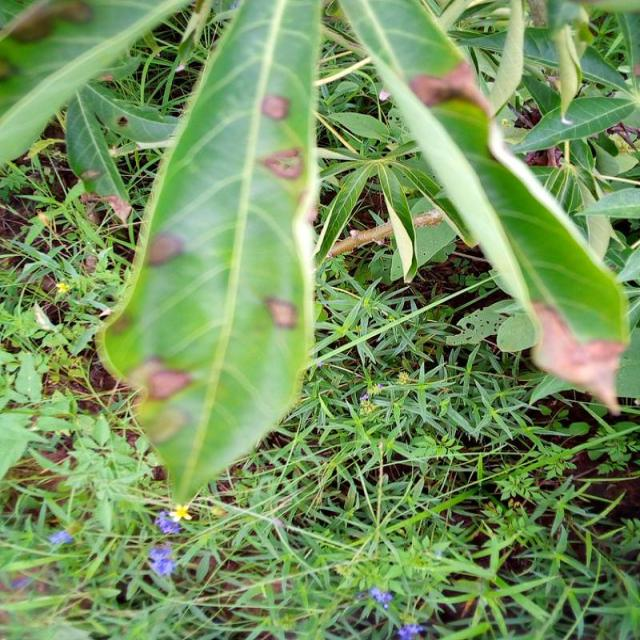cassava leaf: (338, 0, 630, 413), (94, 0, 322, 506)
